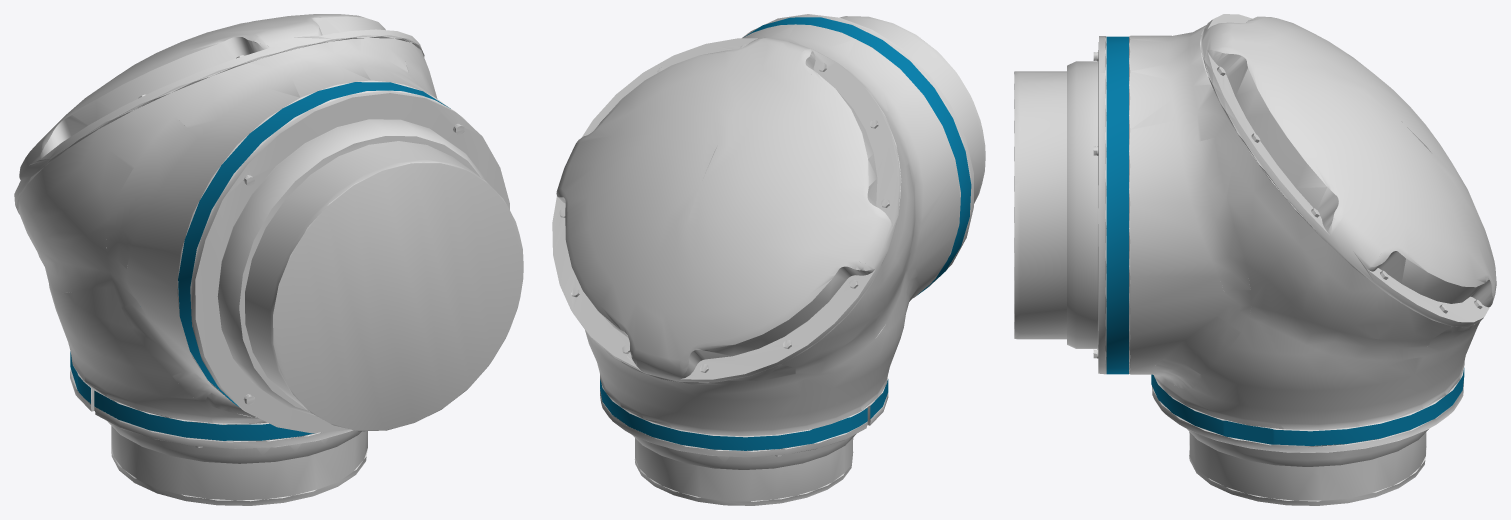
3 renders of one model, left to right at view 1: azimuth 30°, elevation 25°; view 2: azimuth 150°, elevation 25°; view 3: azimuth 270°, elevation 25°, orthographic. The views are drawn at different scales.
Parts seen in each view (by area): view 1: f_1-06vxhc20-b1_lk1; view 2: f_1-06vxhc20-b1_lk1; view 3: f_1-06vxhc20-b1_lk1.
Part boxes in pixels (x1=…): f_1-06vxhc20-b1_lk1: x1=14, y1=14, x2=523, y2=505; f_1-06vxhc20-b1_lk1: x1=552, y1=14, x2=985, y2=505; f_1-06vxhc20-b1_lk1: x1=1014, y1=14, x2=1496, y2=505.
Bounding box in the file's own units: 0.322 × 0.3844 × 0.3711.
